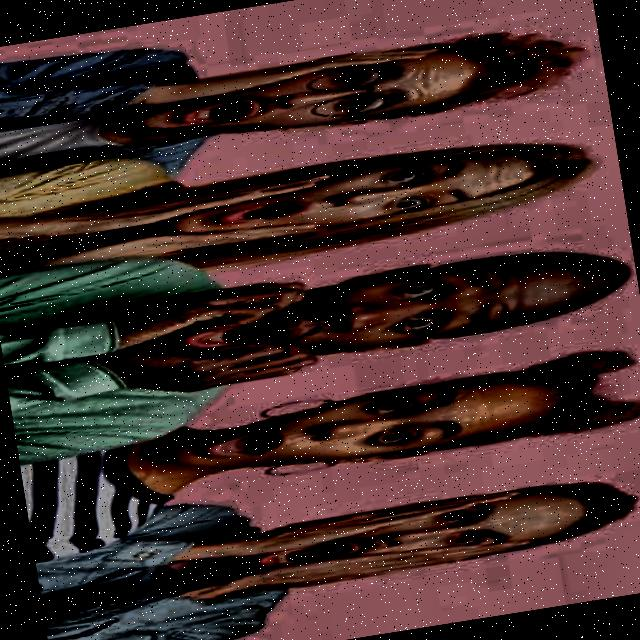surprised: (143, 332, 640, 503), (107, 114, 602, 284), (154, 229, 618, 388), (201, 453, 640, 609), (112, 18, 572, 166)
